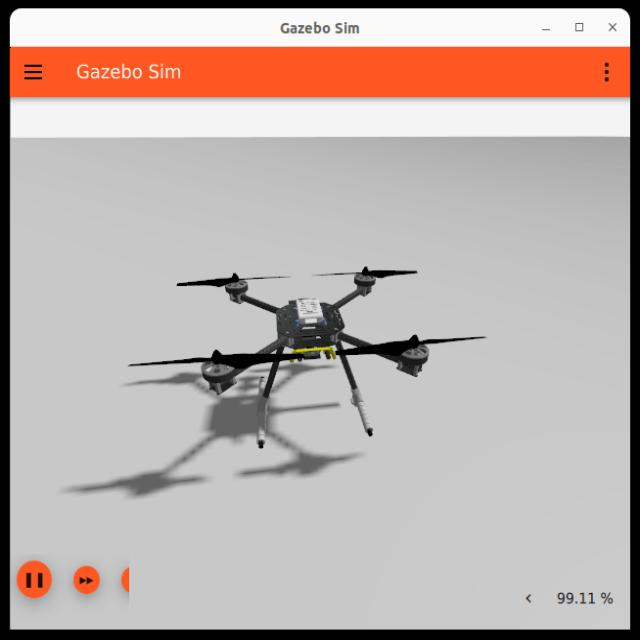drone: (124, 264, 484, 462)
